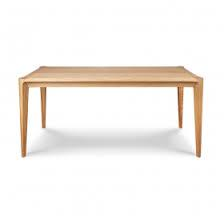desk: (8, 40, 210, 177)
